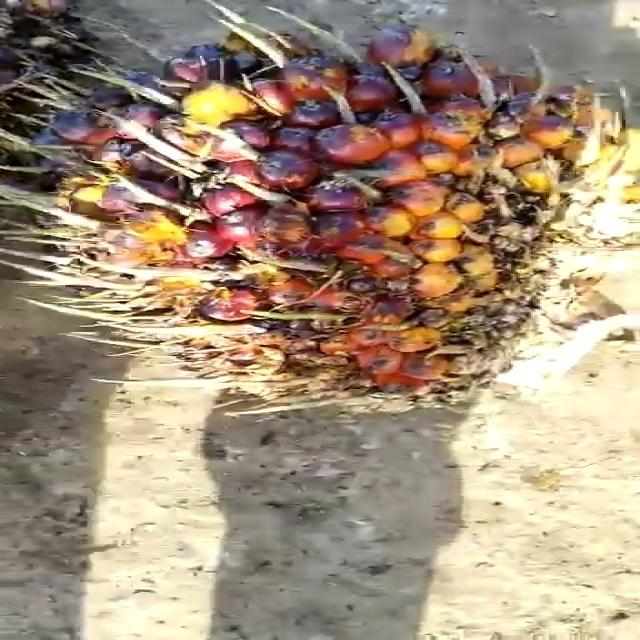palm oil: (0, 51, 640, 416)
